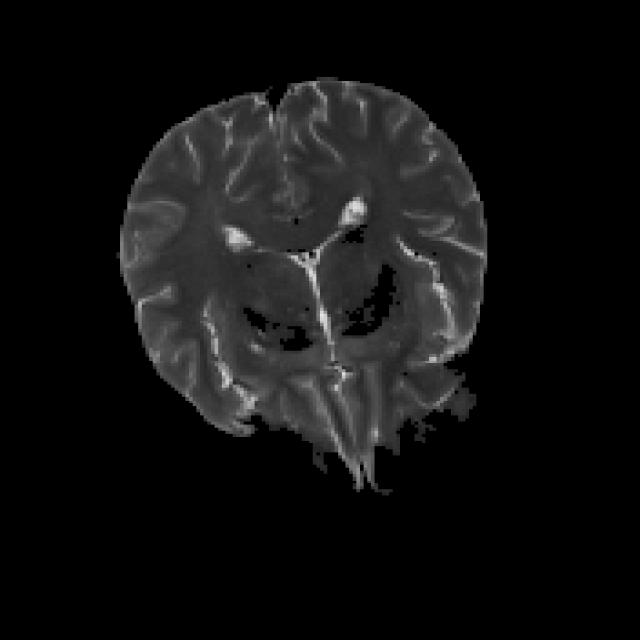parkinson: (116, 74, 488, 495)
